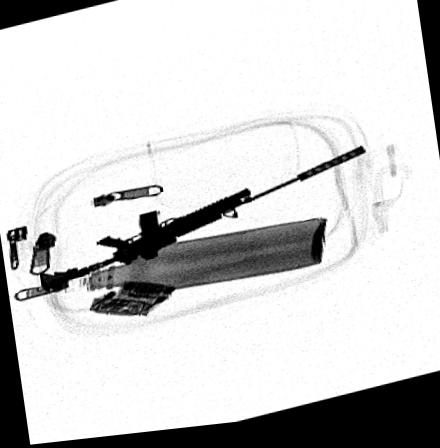Gun: (40, 152, 366, 292)
